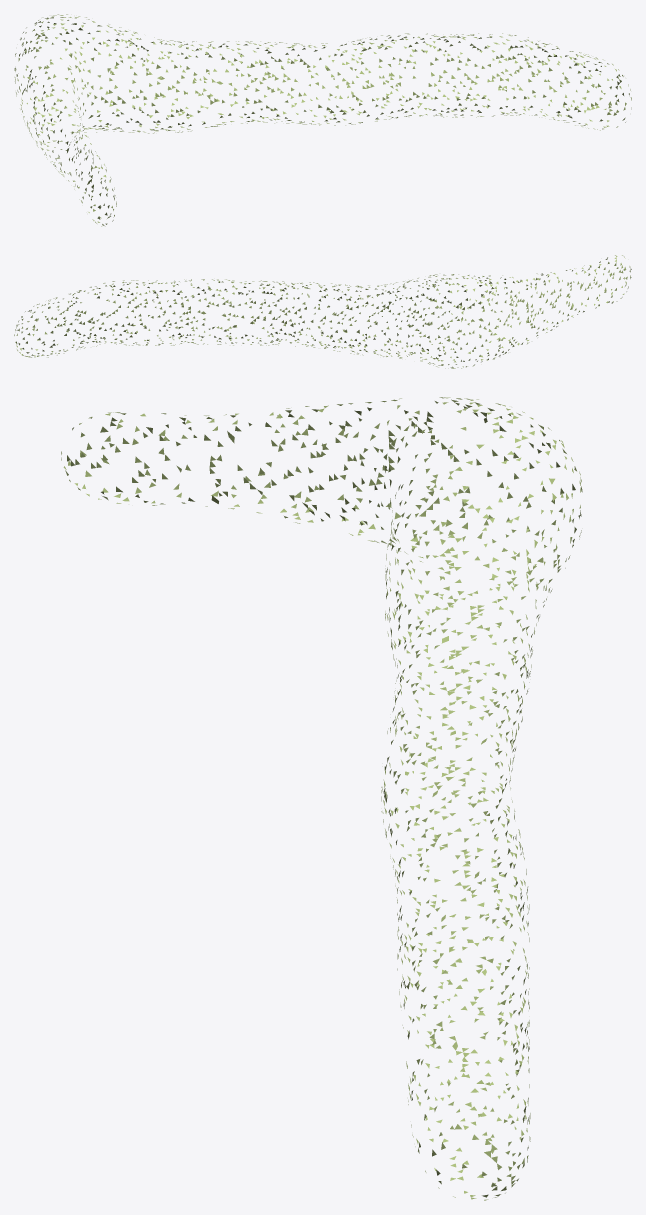
The model's file is morph_011.glb.
3 renders of one model, top to bottom at view 1: azimuth 30°, elevation 25°; view 2: azimuth 150°, elevation 25°; view 3: azimuth 270°, elevation 25°, orthographic. The views are drawn at different scales.
Size of the model in its own units: 121 by 41.41 by 53.17.
